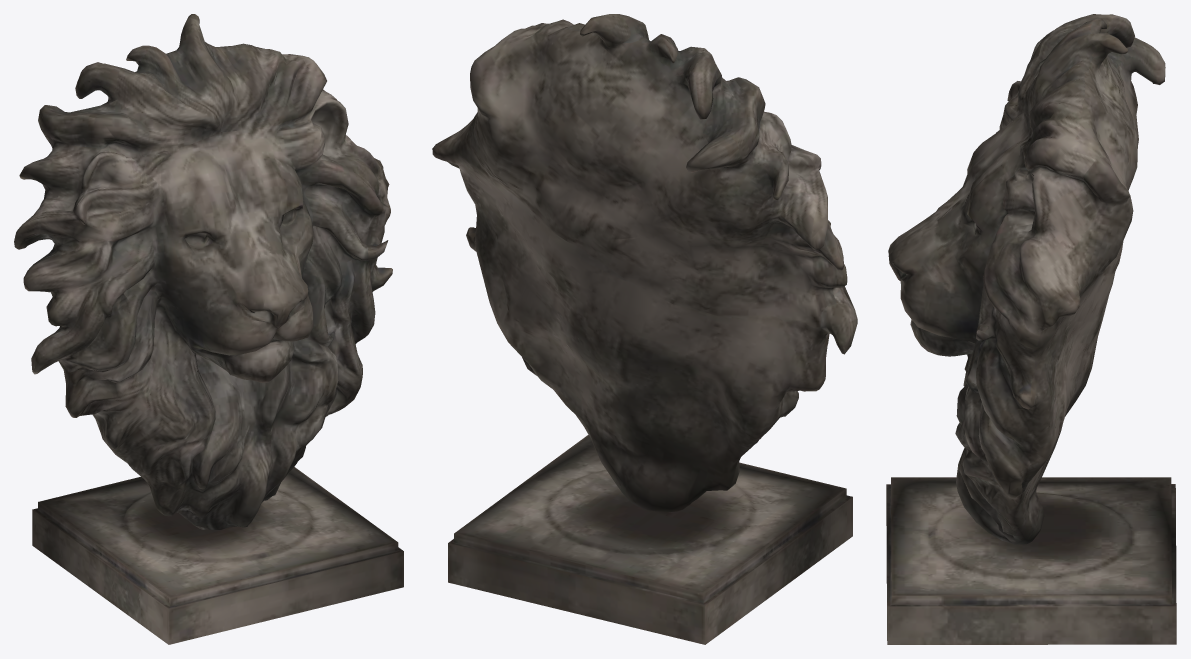
Rendered from ph_lion_head.glb.
3 views of the same model, side by side, from view 1: azimuth 30°, elevation 25°; view 2: azimuth 150°, elevation 25°; view 3: azimuth 270°, elevation 25° (orthographic). The views are drawn at different scales.
Visible parts, largest first — view 1: lion_head; view 2: lion_head; view 3: lion_head.
Part boxes in pixels (box(x1,y1,x2,y2)): lion_head: box(14, 14, 403, 644); lion_head: box(432, 14, 857, 644); lion_head: box(886, 14, 1176, 644).
Size of the model in its own units: 0.3208 by 0.4358 by 0.2066.
Materials: 1 (1 with a texture image).
